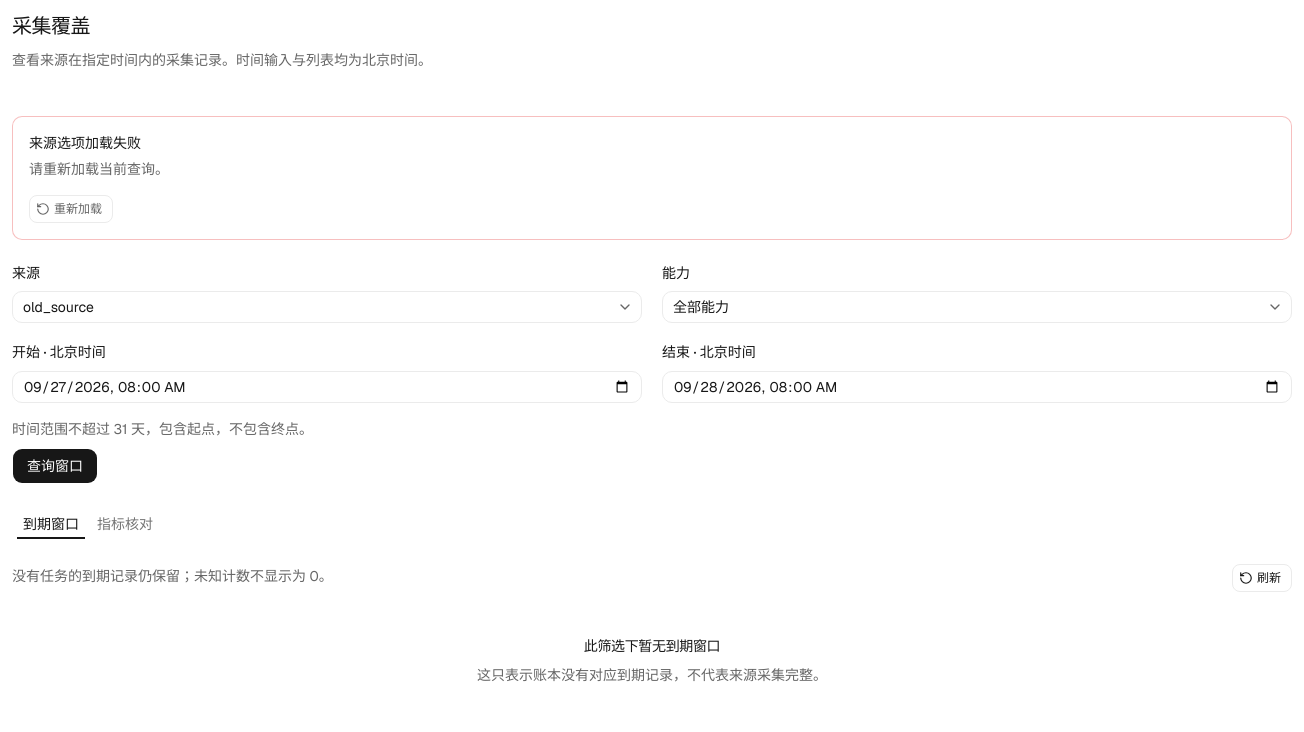
Test: source coverage interaction › shows a source option error without blocking coverage and retries it
The width and height of the screenshot is (1304, 732).
Expected: the text "来源选项加载失败" is shown, [29,134,141,152]
Expected: the text "此筛选下暂无到期窗口" is shown, [584,636,720,656]
What coordinates should you click on to do the following:
click the button "重新加载"
I would click on:
 (71, 209)
Its box is [29,195,113,223].
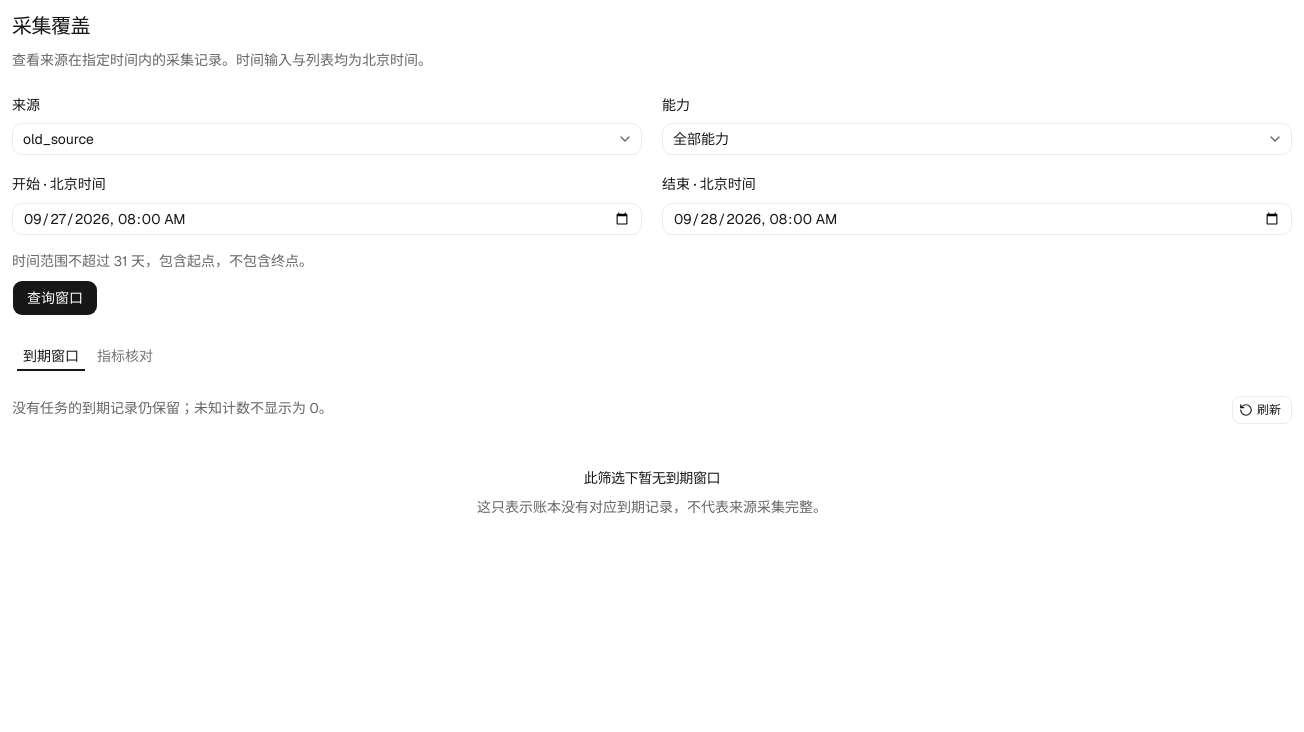
Expected: the message "来源选项加载失败 请重新加载当前查询。 重新加载" is gone
